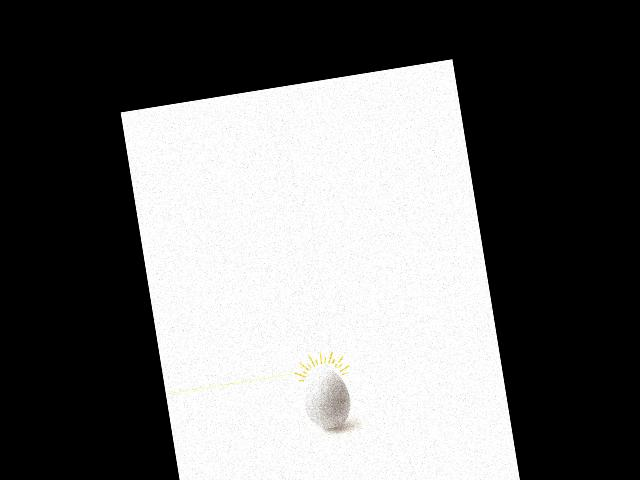egg: (298, 365, 353, 432)
